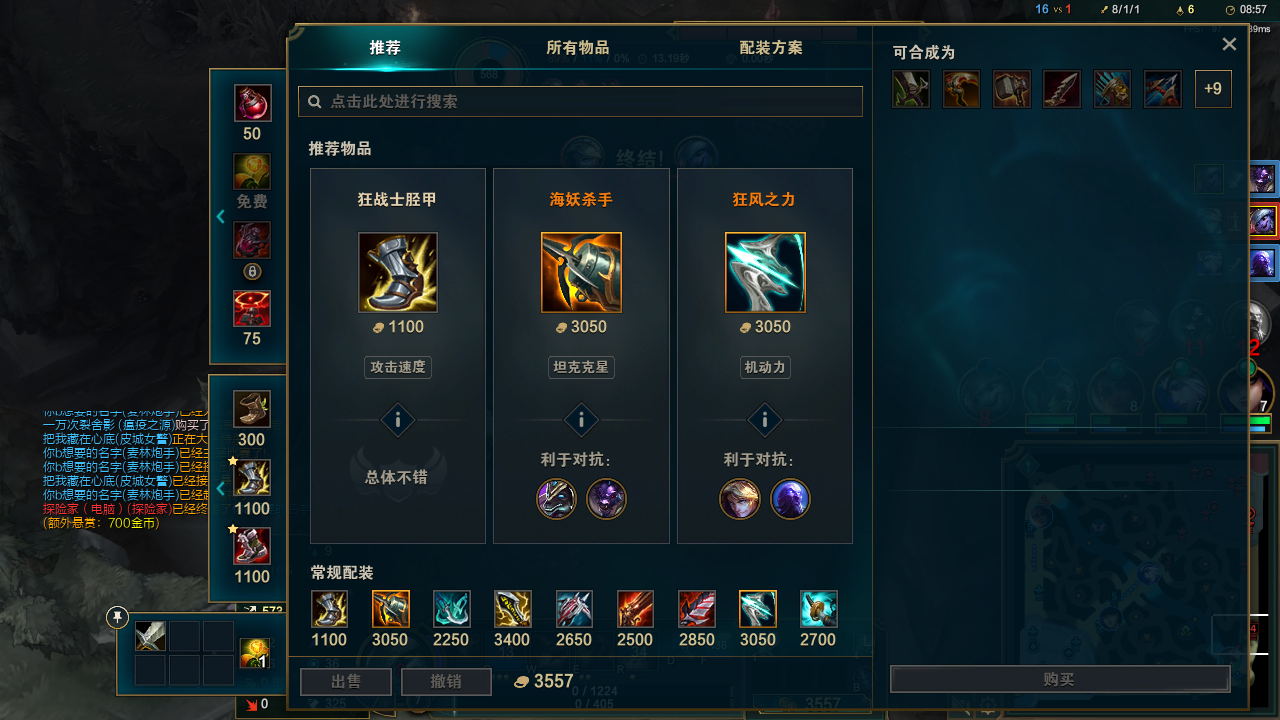TJJM: (336, 30, 440, 76)
